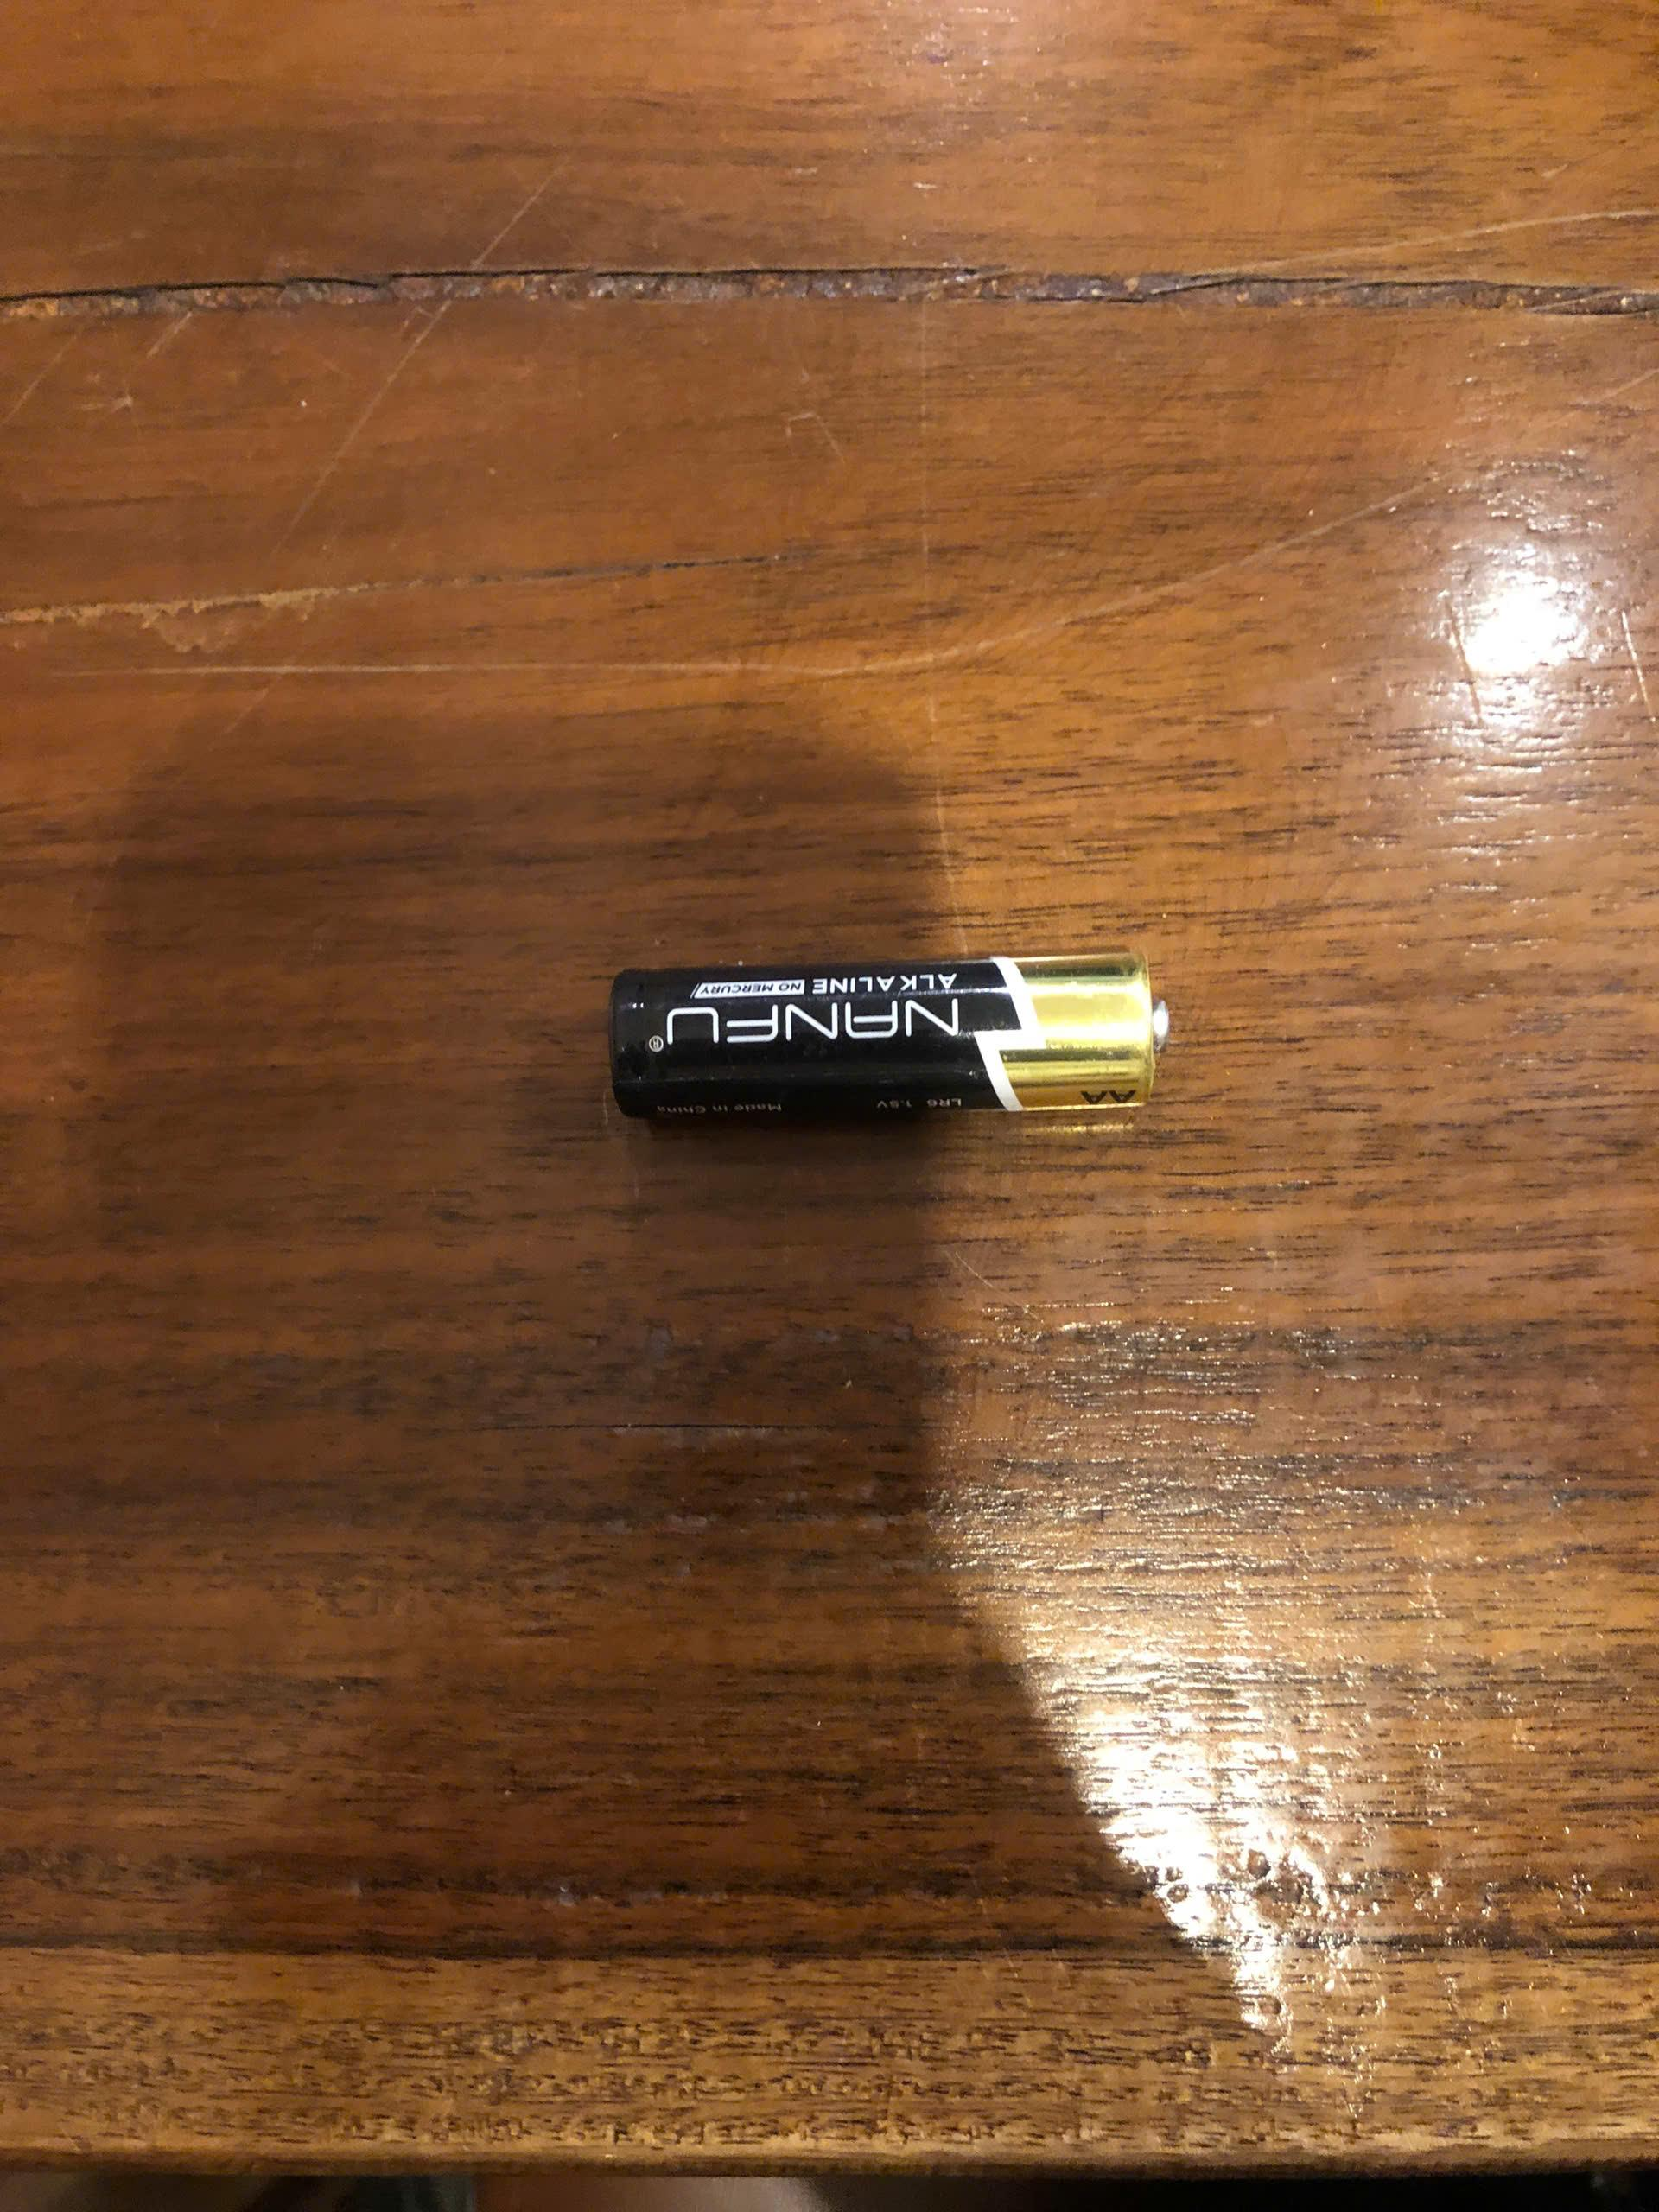Con lai: (587, 956, 1182, 1125)
